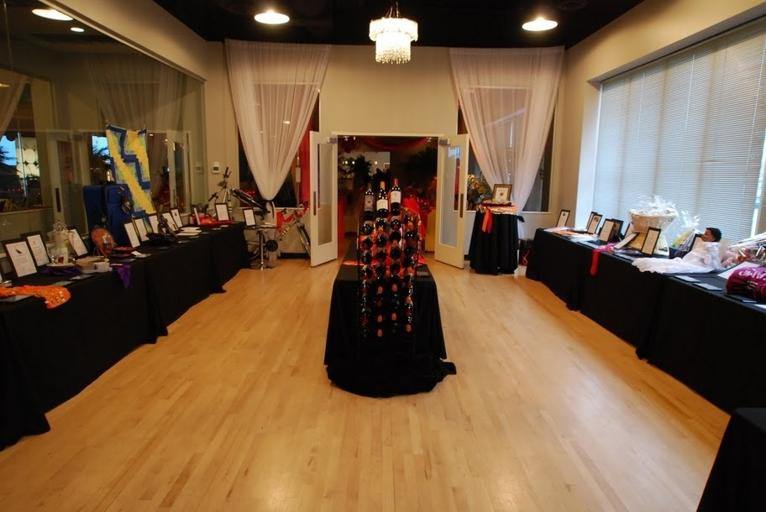non-vehicle: (243, 204, 310, 260), (203, 166, 268, 218)
